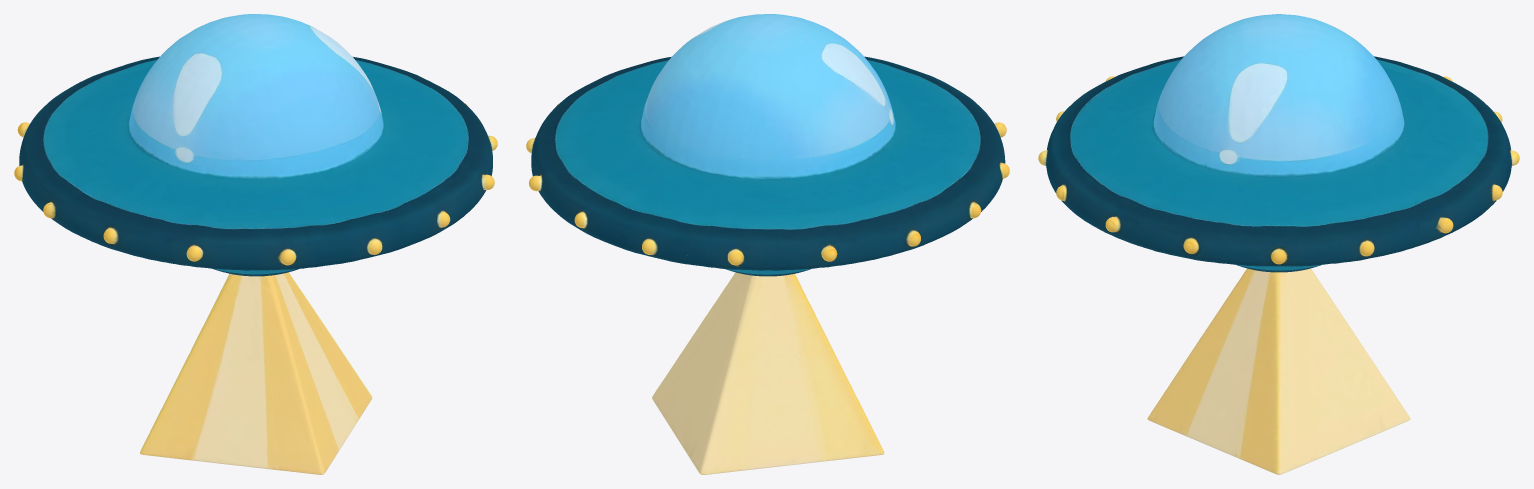
File: UFO.glb
3 renders of one model, left to right at view 1: azimuth 30°, elevation 25°; view 2: azimuth 150°, elevation 25°; view 3: azimuth 270°, elevation 25°, orthographic.
Size of the model in its own units: 1.9 by 1.72 by 1.9.
Materials: 1 (1 with a texture image).
